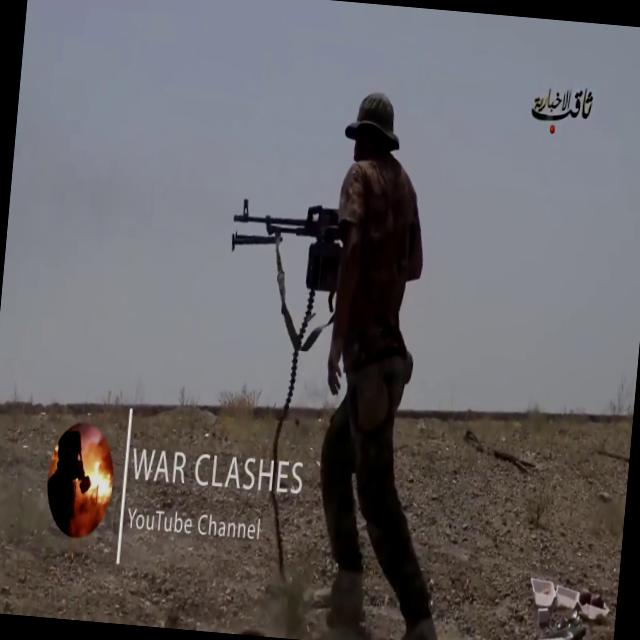long weapon: (212, 176, 342, 308)
